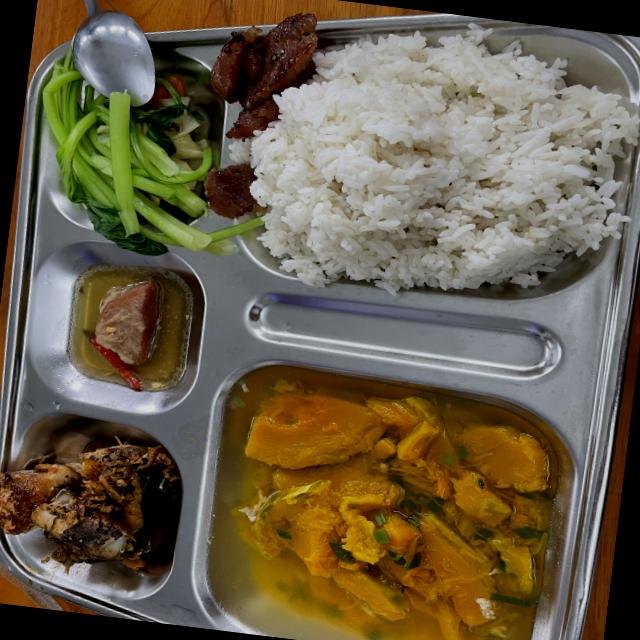canh bi do: (204, 372, 576, 640)
com: (253, 33, 637, 292)
kho trung: (98, 283, 157, 367)
rau: (44, 52, 210, 249)
